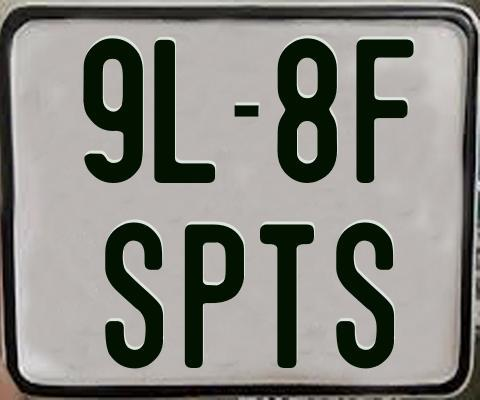8: (276, 37, 340, 182)
9: (81, 37, 144, 187)
F: (355, 36, 413, 185)
L: (154, 39, 220, 188)
P: (183, 222, 248, 367)
S: (105, 219, 169, 367), (335, 221, 393, 370)
T: (260, 223, 318, 367)
